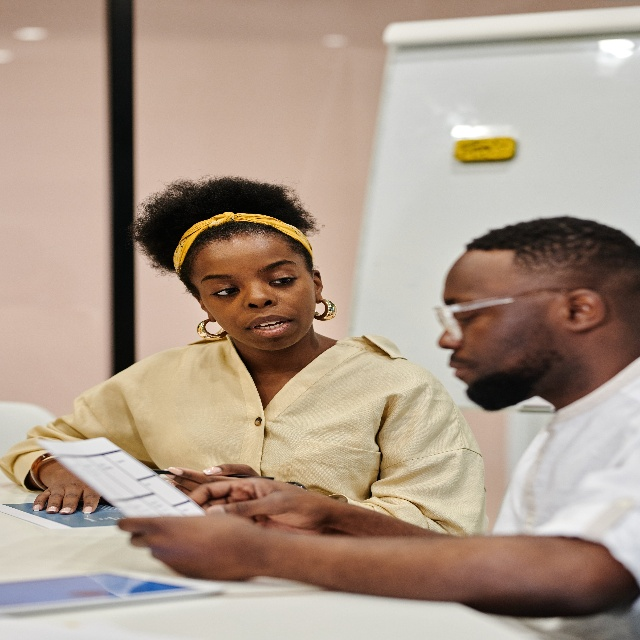Gafas: (434, 297, 489, 335)
Sin_guantes: (114, 512, 258, 579), (191, 472, 334, 524), (162, 455, 262, 488), (33, 465, 99, 513)
